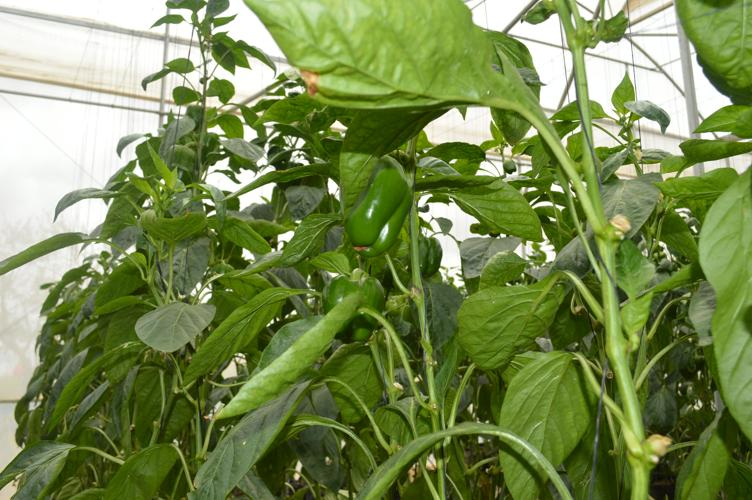BellPepper: (341, 167, 409, 249), (323, 271, 382, 340)
